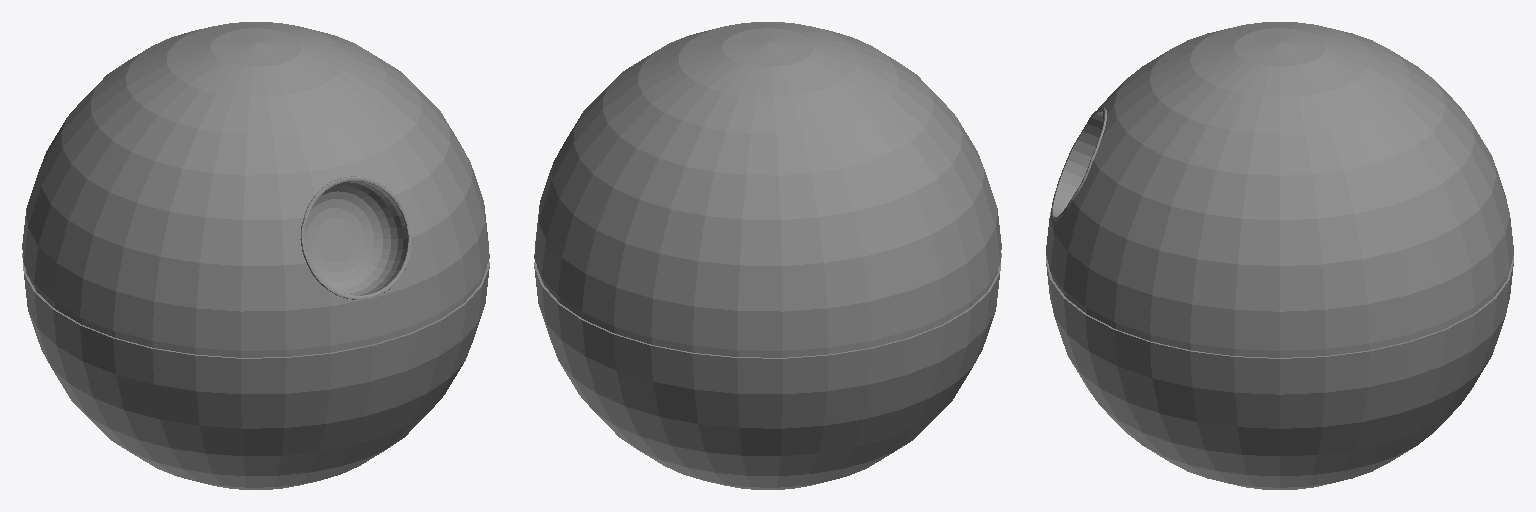
File: DeathStar.obj
3 renders of one model, left to right at view 1: azimuth 30°, elevation 25°; view 2: azimuth 150°, elevation 25°; view 3: azimuth 270°, elevation 25°, orthographic.
Visible parts, largest first — view 1: DeathStar; view 2: DeathStar; view 3: DeathStar.
Boxes of the visible parts, box(x1,y1,x2,y2) form: DeathStar: box(22, 22, 489, 489); DeathStar: box(534, 22, 1001, 489); DeathStar: box(1046, 22, 1513, 489).
Bounding box in the file's own units: 716 × 717 × 716.